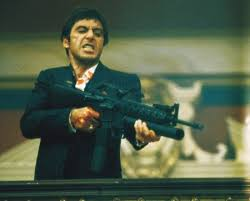rifle: (50, 84, 203, 142)
